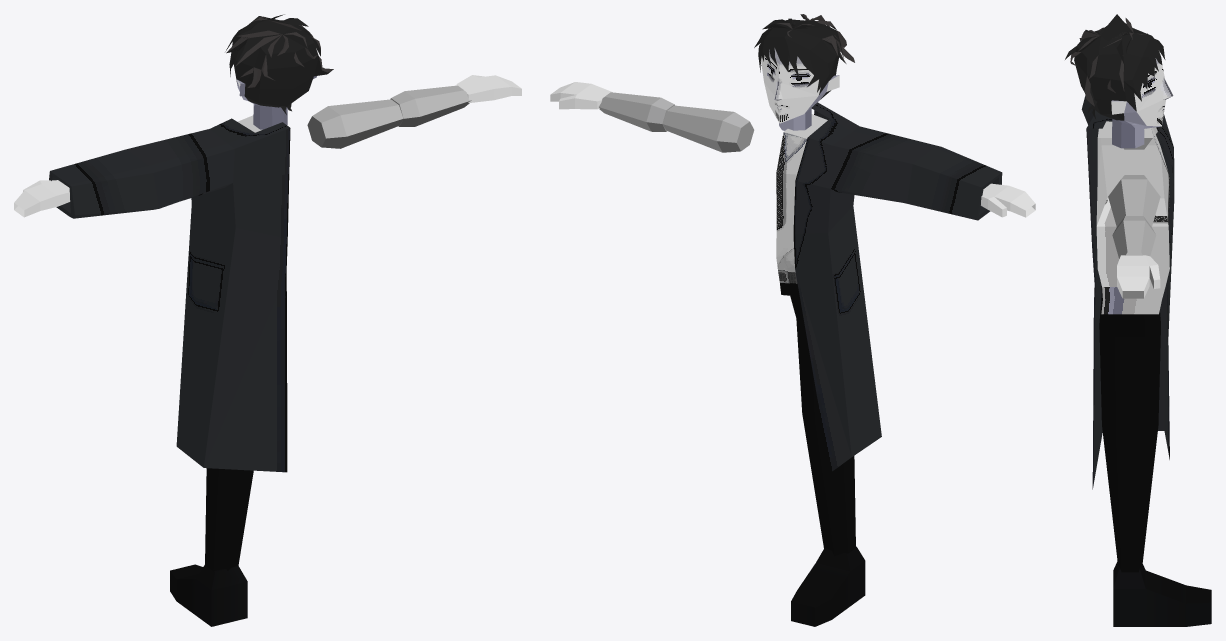
Rendered from modelogabrielgaspard(3).gltf.
The picture shows the model from 3 angles, left to right: view 1: azimuth 30°, elevation 25°; view 2: azimuth 150°, elevation 25°; view 3: azimuth 270°, elevation 25°; orthographic projection. The views are drawn at different scales.
Parts seen in each view (by area): view 1: Sobretudo, Cabeça.001, Calça Esquerda, Sapato Esquerdo, Braço Direito, Antebraço Direita, Pescoço.001; view 2: Sobretudo, Cabeça.001, Calça Esquerda, Sapato Esquerdo, Tronco, Braço Direito, Antebraço Direita; view 3: Calça Esquerda, Cabeça.001, Tronco, Sobretudo, Sapato Esquerdo, Braço Direito, Antebraço Direita, Pescoço.001, Ponta Dir, Meio Dir, Palma Dir, Dedão Dir (+1 smaller).
Part boxes in pixels (x1,y1,x2,y2): Sobretudo: (49,118,290,472); Cabeça.001: (225,14,333,114); Calça Esquerda: (205,468,253,571); Sapato Esquerdo: (170,564,247,626); Braço Direito: (307,99,403,148); Antebraço Direita: (390,85,471,126); Pescoço.001: (253,104,287,129); Sobretudo: (793,102,1002,472); Cabeça.001: (754,14,854,123); Calça Esquerda: (790,295,855,555); Sapato Esquerdo: (791,546,865,626); Tronco: (776,114,827,296); Braço Direito: (662,105,754,152); Antebraço Direita: (599,92,674,131); Calça Esquerda: (1099,298,1160,572); Cabeça.001: (1065,14,1173,128); Tronco: (1096,121,1169,314); Sobretudo: (1081,96,1174,489); Sapato Esquerdo: (1113,561,1211,626); Braço Direito: (1108,175,1160,226); Antebraço Direita: (1112,216,1156,258); Pescoço.001: (1112,119,1144,148); Ponta Dir: (1117,276,1149,297); Meio Dir: (1117,266,1149,276); Palma Dir: (1117,255,1149,265); Dedão Dir: (1145,255,1160,288).
Size of the model in its own units: 7.44 by 8.41 by 1.82.
Materials: 5 (4 with a texture image).
